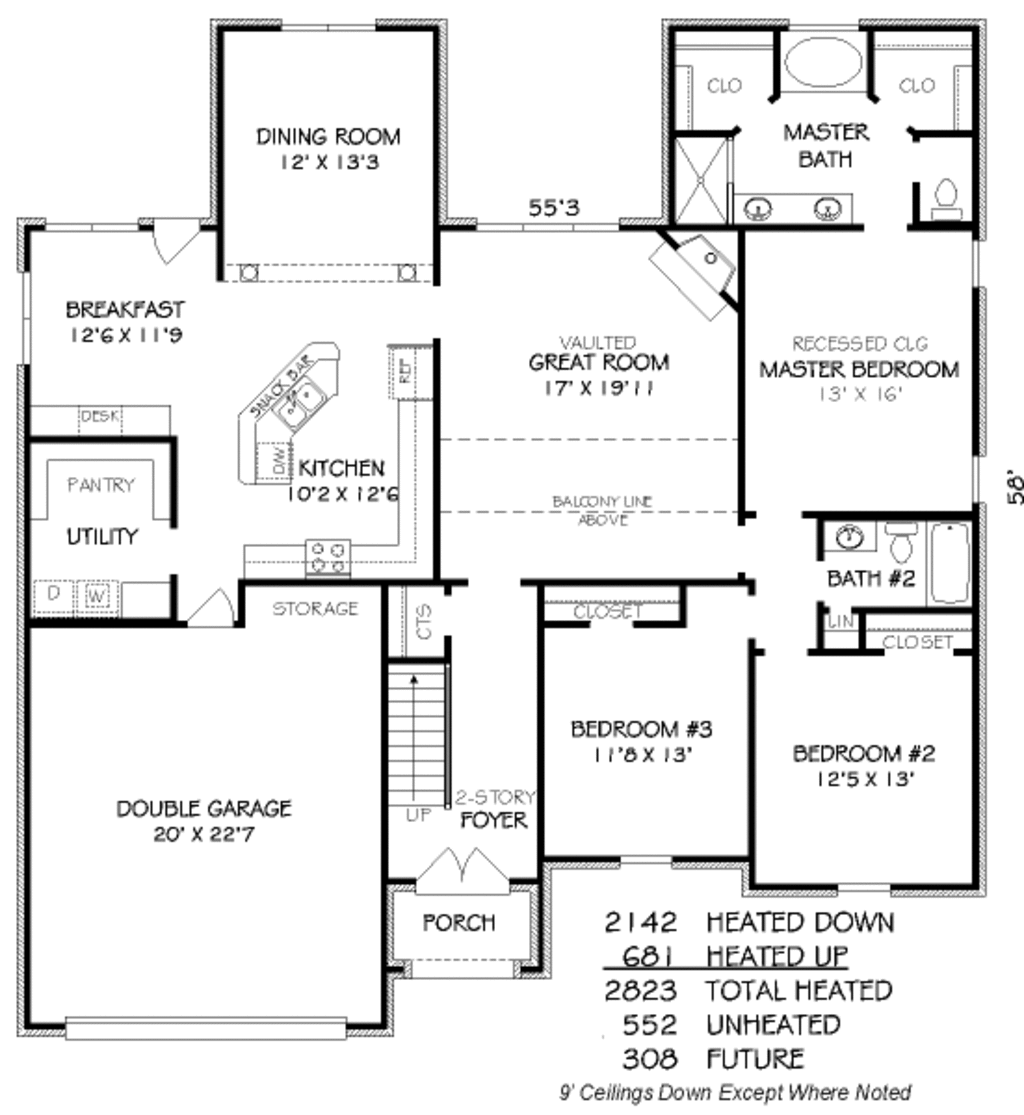door: (411, 848, 511, 896), (147, 206, 199, 270), (182, 577, 246, 624)
large_sink: (925, 168, 982, 229), (882, 517, 920, 567)
small_sink: (739, 187, 859, 227), (827, 522, 873, 562)
stairs: (352, 637, 487, 813)
tub: (782, 30, 877, 93), (935, 517, 973, 618)
twin_sink: (235, 351, 340, 441)
window: (280, 12, 375, 36), (839, 870, 902, 905), (475, 217, 620, 232), (616, 853, 677, 870)
